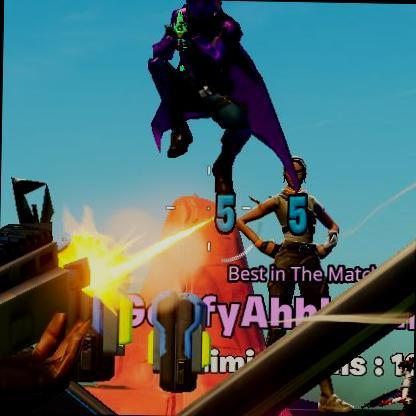person: (142, 0, 306, 185)
